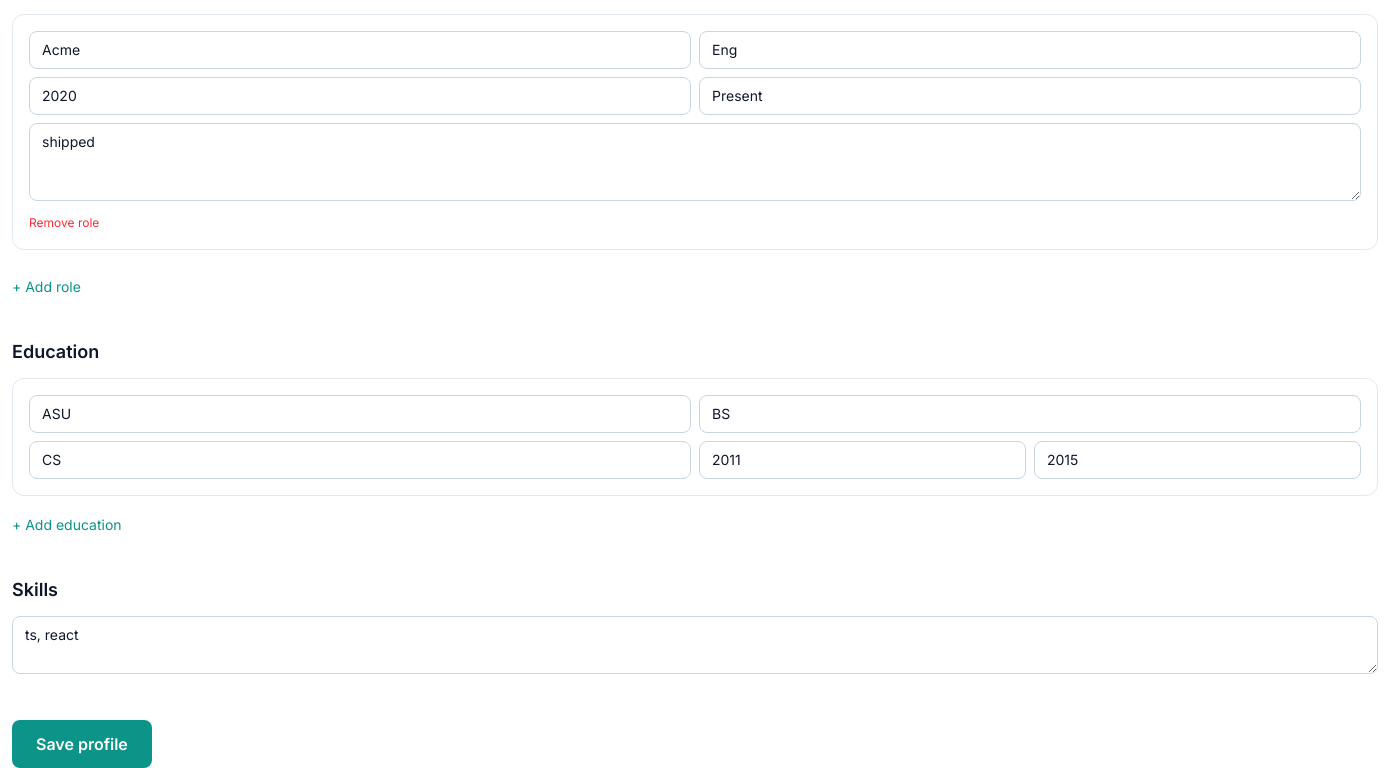
ProfileEditor › shows an error when saving fails
The width and height of the screenshot is (1390, 768).
(page scrolled)
Click the button "Save profile" at point(82, 744), box [12, 720, 152, 767]
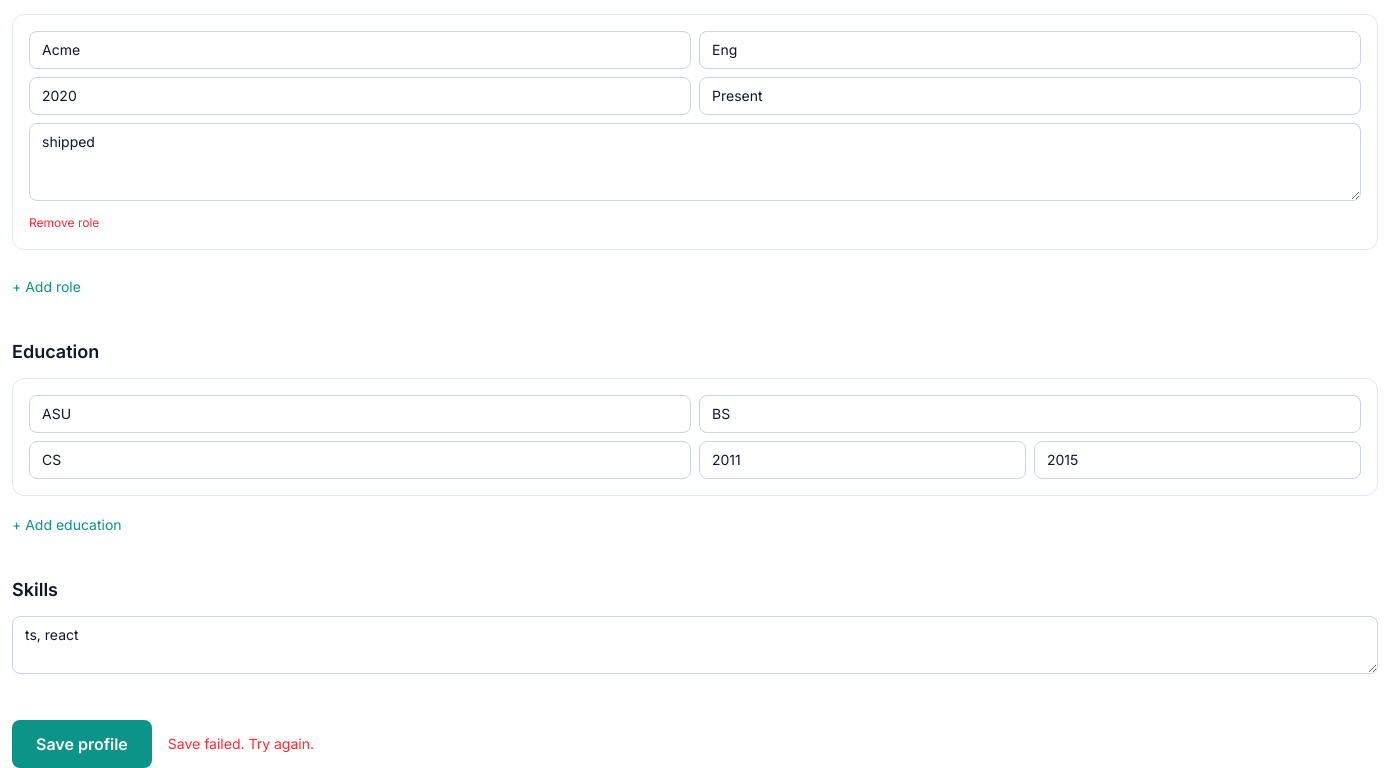
Now the text "Save failed. Try again." is shown, box [168, 734, 314, 754]
